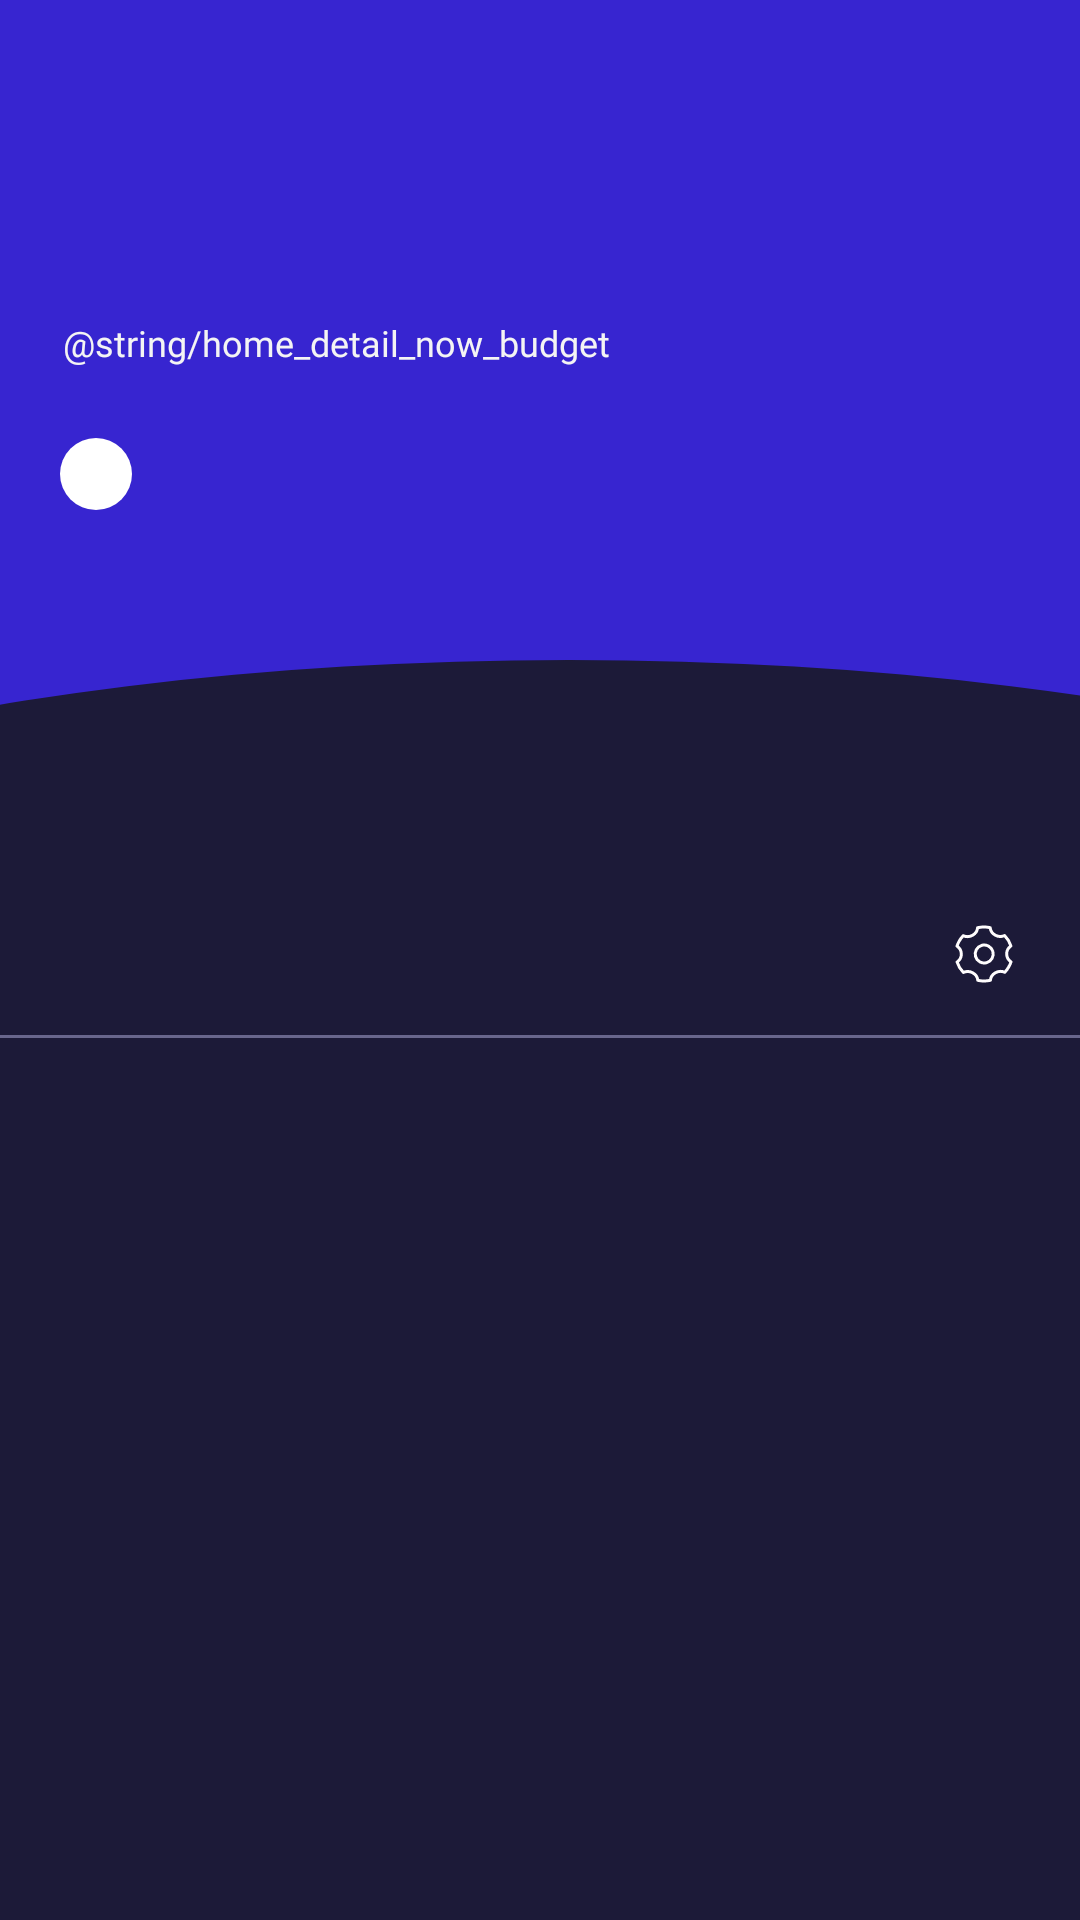

Icons on this 1080x1920 Android screen, each with the point to tap as point (x, y):
set: point (984, 954)
